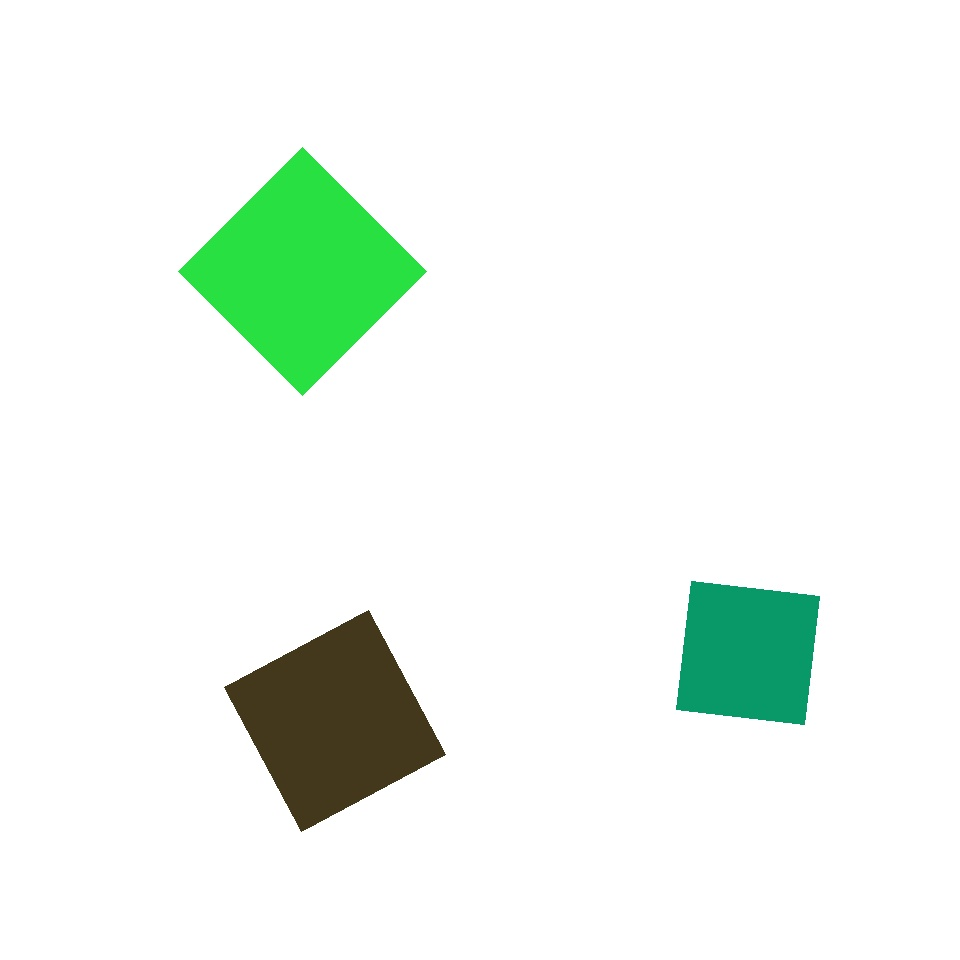circle: (137, 466, 352, 686)
square: (178, 147, 426, 395), (224, 610, 446, 832), (676, 582, 820, 724)
triangle: (311, 116, 652, 458)
